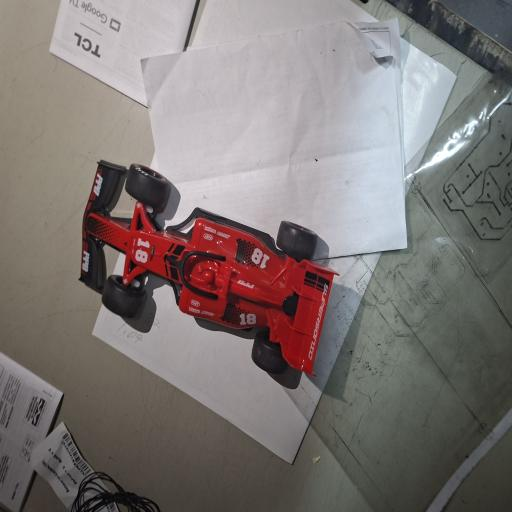carro: (68, 155, 342, 396)
